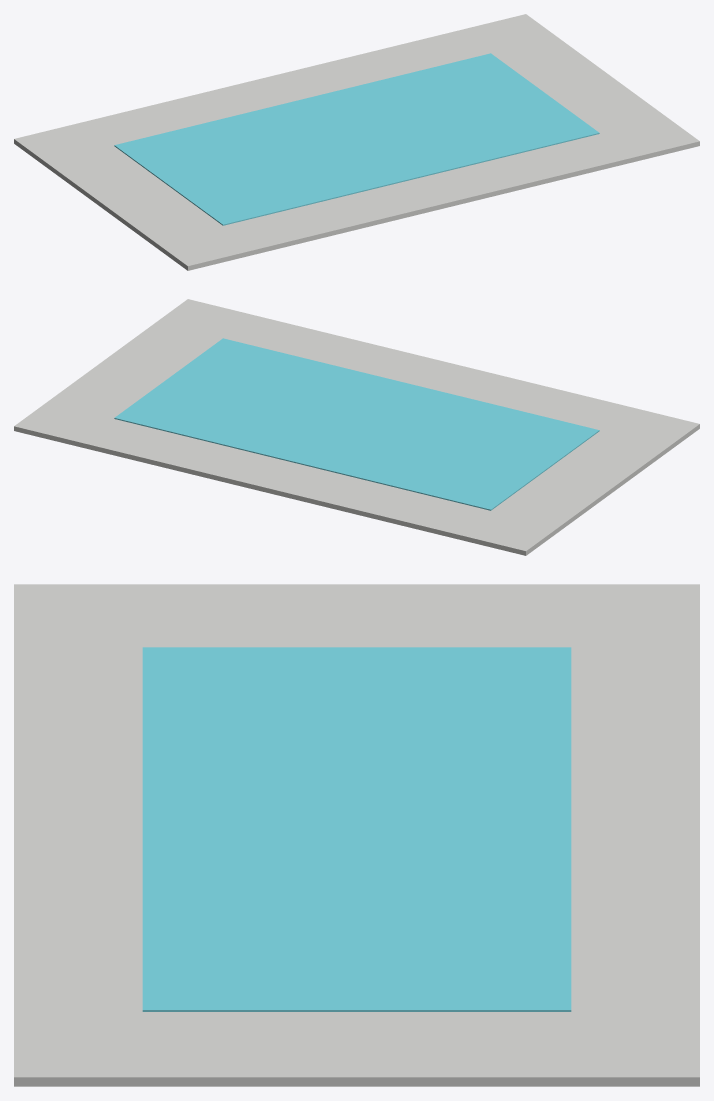
The model's file is EN_SwimPool.glb.
The picture shows the model from 3 angles, top to bottom: view 1: azimuth 30°, elevation 25°; view 2: azimuth 150°, elevation 25°; view 3: azimuth 270°, elevation 25°; orthographic projection. The views are drawn at different scales.
Parts seen in each view (by area): view 1: EN_SwimPool; view 2: EN_SwimPool; view 3: EN_SwimPool.
Part boxes in pixels (x1,y1,x2,y2): EN_SwimPool: [14, 14, 699, 270]; EN_SwimPool: [14, 299, 699, 555]; EN_SwimPool: [14, 584, 699, 1086].
Size of the model in its own units: 34 by 0.37 by 20.
